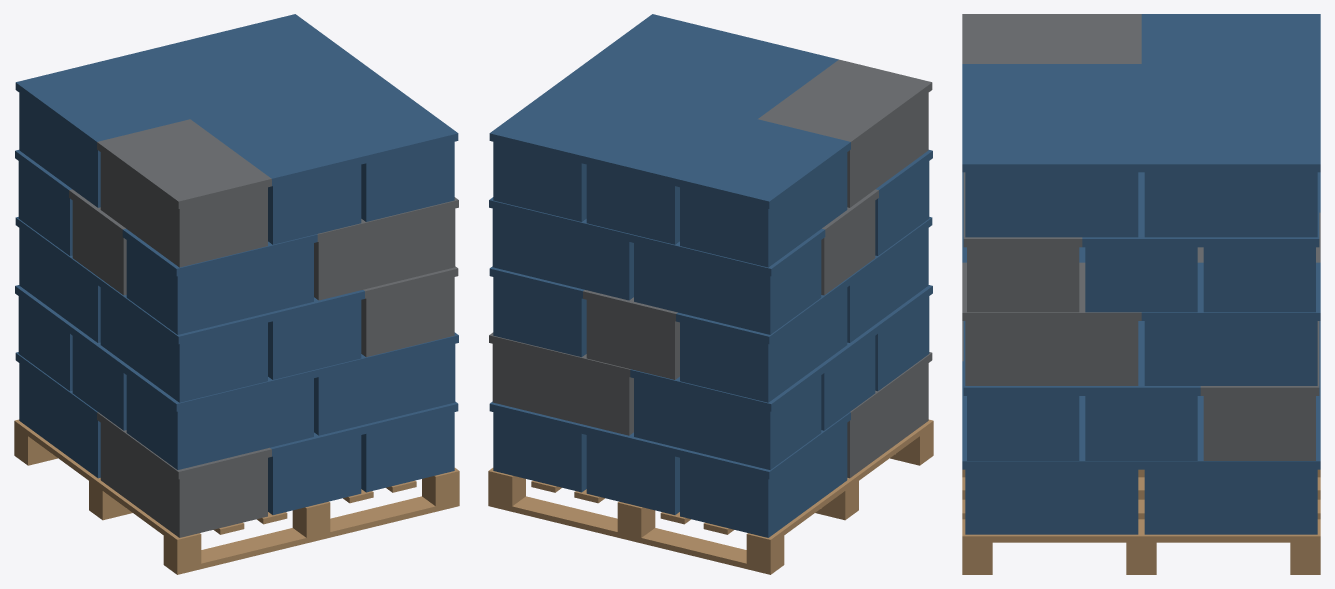
The model's file is prop_fish_crates.glb.
3 views of the same model, side by side, from view 1: azimuth 30°, elevation 25°; view 2: azimuth 150°, elevation 25°; view 3: azimuth 270°, elevation 25° (orthographic). The views are drawn at different scales.
Parts seen in each view (by area): view 1: Crates; view 2: Crates; view 3: Crates.
Boxes of the visible parts, x1,y1,x2,y2 form: Crates: (14,14,459,574); Crates: (488,14,933,574); Crates: (962,14,1320,574).
Size of what is drawn, in the model's own units: 1.18 by 1.49 by 1.18.
